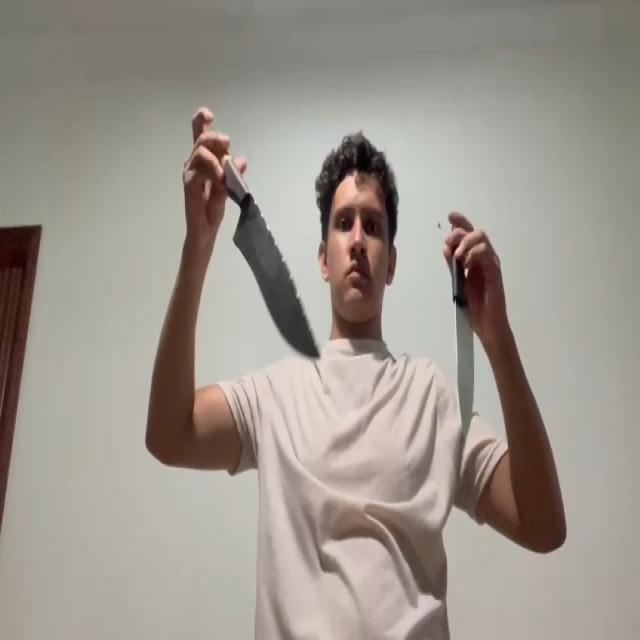knife: (230, 194, 321, 359), (453, 295, 476, 440)
